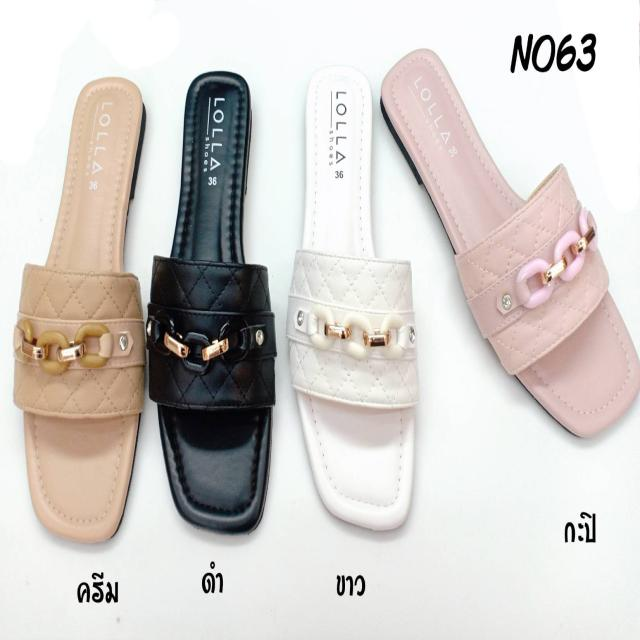black: (150, 72, 270, 534)
cream: (24, 78, 145, 543)
kapi: (384, 43, 637, 445)
white: (295, 74, 414, 532)
